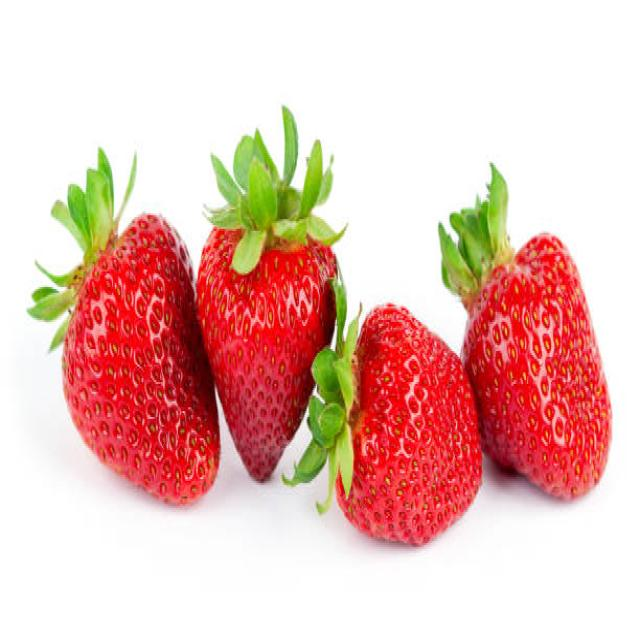Healthy Fruit: (61, 211, 221, 505), (460, 234, 612, 501), (197, 221, 338, 482), (333, 301, 483, 546)
